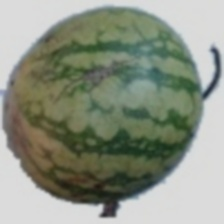watermelon: (43, 19, 200, 164)
